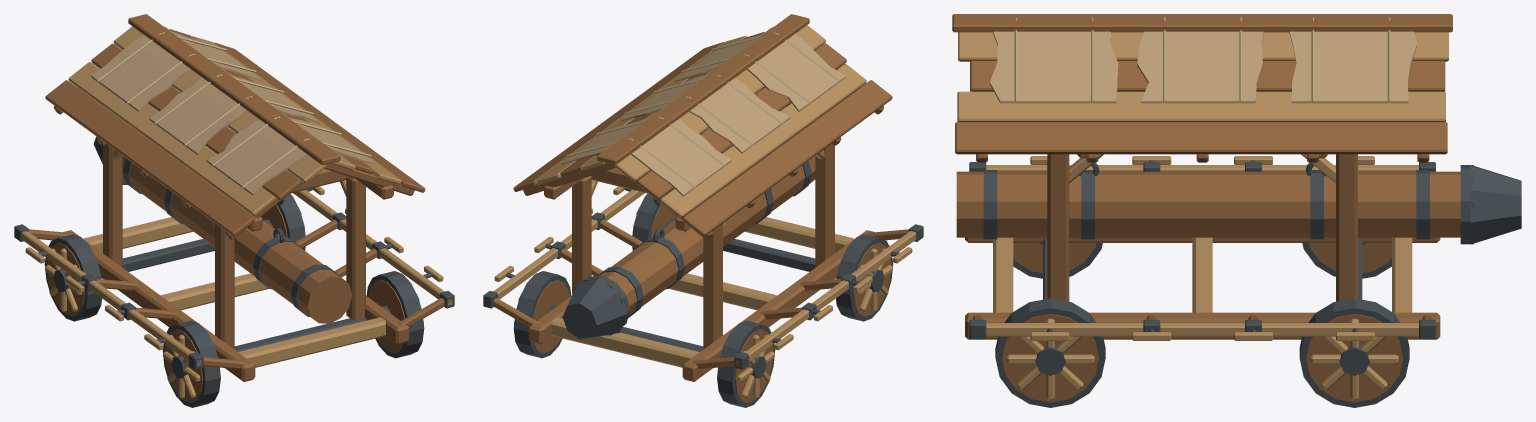
File: ram-v6.glb
3 views of the same model, side by side, from view 1: azimuth 30°, elevation 25°; view 2: azimuth 150°, elevation 25°; view 3: azimuth 270°, elevation 25° (orthographic). The views are drawn at different scales.
Parts seen in each view (by area): view 1: Ram_Log, Roof_Plank.003, Hide_Cover.002, Hide_Cover, Ridge_Cap, Roof_Plank.002, Hide_Cover.001, Cross_Beam, Chassis_Long, Roof_Post.002, Roof_Post, Roof_Post.001 (+25 smaller); view 2: Roof_Plank.003, Ram_Log, Hide_Cover.002, Ridge_Cap, Hide_Cover, Roof_Plank.002, Hide_Cover.001, Iron_Ram_Head, Chassis_Long, Cross_Beam.002, Roof_Post.001, Roof_Post (+26 smaller); view 3: Ram_Log, Roof_Plank.007, Roof_Plank.006, Ridge_Cap, Hide_Cover, Hide_Cover.002, Hide_Cover.001, Push_Rail.001, Roof_Plank.005, Roof_Plank.004, Chassis_Long.001, Roof_Post.002 (+20 smaller).
Part boxes in pixels (x1,y1,x2,y2): Ram_Log: [122, 156, 351, 323]; Roof_Plank.003: [45, 80, 255, 236]; Hide_Cover.002: [91, 31, 261, 111]; Hide_Cover: [206, 117, 374, 195]; Ridge_Cap: [128, 14, 340, 165]; Roof_Plank.002: [68, 62, 275, 216]; Hide_Cover.001: [149, 75, 320, 154]; Cross_Beam: [238, 317, 385, 367]; Chassis_Long: [63, 230, 255, 381]; Roof_Post.002: [346, 176, 365, 319]; Roof_Post: [215, 223, 234, 348]; Roof_Post.001: [103, 144, 122, 266]; Roof_Plank.003: [682, 80, 892, 236]; Ram_Log: [599, 156, 815, 315]; Hide_Cover.002: [561, 117, 731, 196]; Ridge_Cap: [597, 14, 809, 165]; Hide_Cover: [675, 33, 845, 111]; Roof_Plank.002: [659, 64, 866, 217]; Hide_Cover.001: [621, 74, 790, 153]; Iron_Ram_Head: [562, 277, 627, 338]; Chassis_Long: [682, 230, 874, 381]; Cross_Beam.002: [552, 317, 699, 367]; Roof_Post.001: [703, 223, 722, 348]; Roof_Post: [815, 144, 834, 266]; Ram_Log: [956, 171, 1460, 237]; Roof_Plank.007: [955, 122, 1447, 154]; Roof_Plank.006: [957, 91, 1445, 121]; Ridge_Cap: [952, 14, 1452, 32]; Hide_Cover: [990, 31, 1118, 103]; Hide_Cover.002: [1289, 31, 1416, 103]; Hide_Cover.001: [1137, 31, 1263, 103]; Push_Rail.001: [986, 323, 1418, 336]; Roof_Plank.005: [970, 60, 1445, 91]; Roof_Plank.004: [958, 32, 1448, 61]; Chassis_Long.001: [965, 312, 1440, 339]; Roof_Post.002: [1047, 154, 1069, 301].
Bounding box in the file's own units: 4.99 × 4.18 × 6.71.
